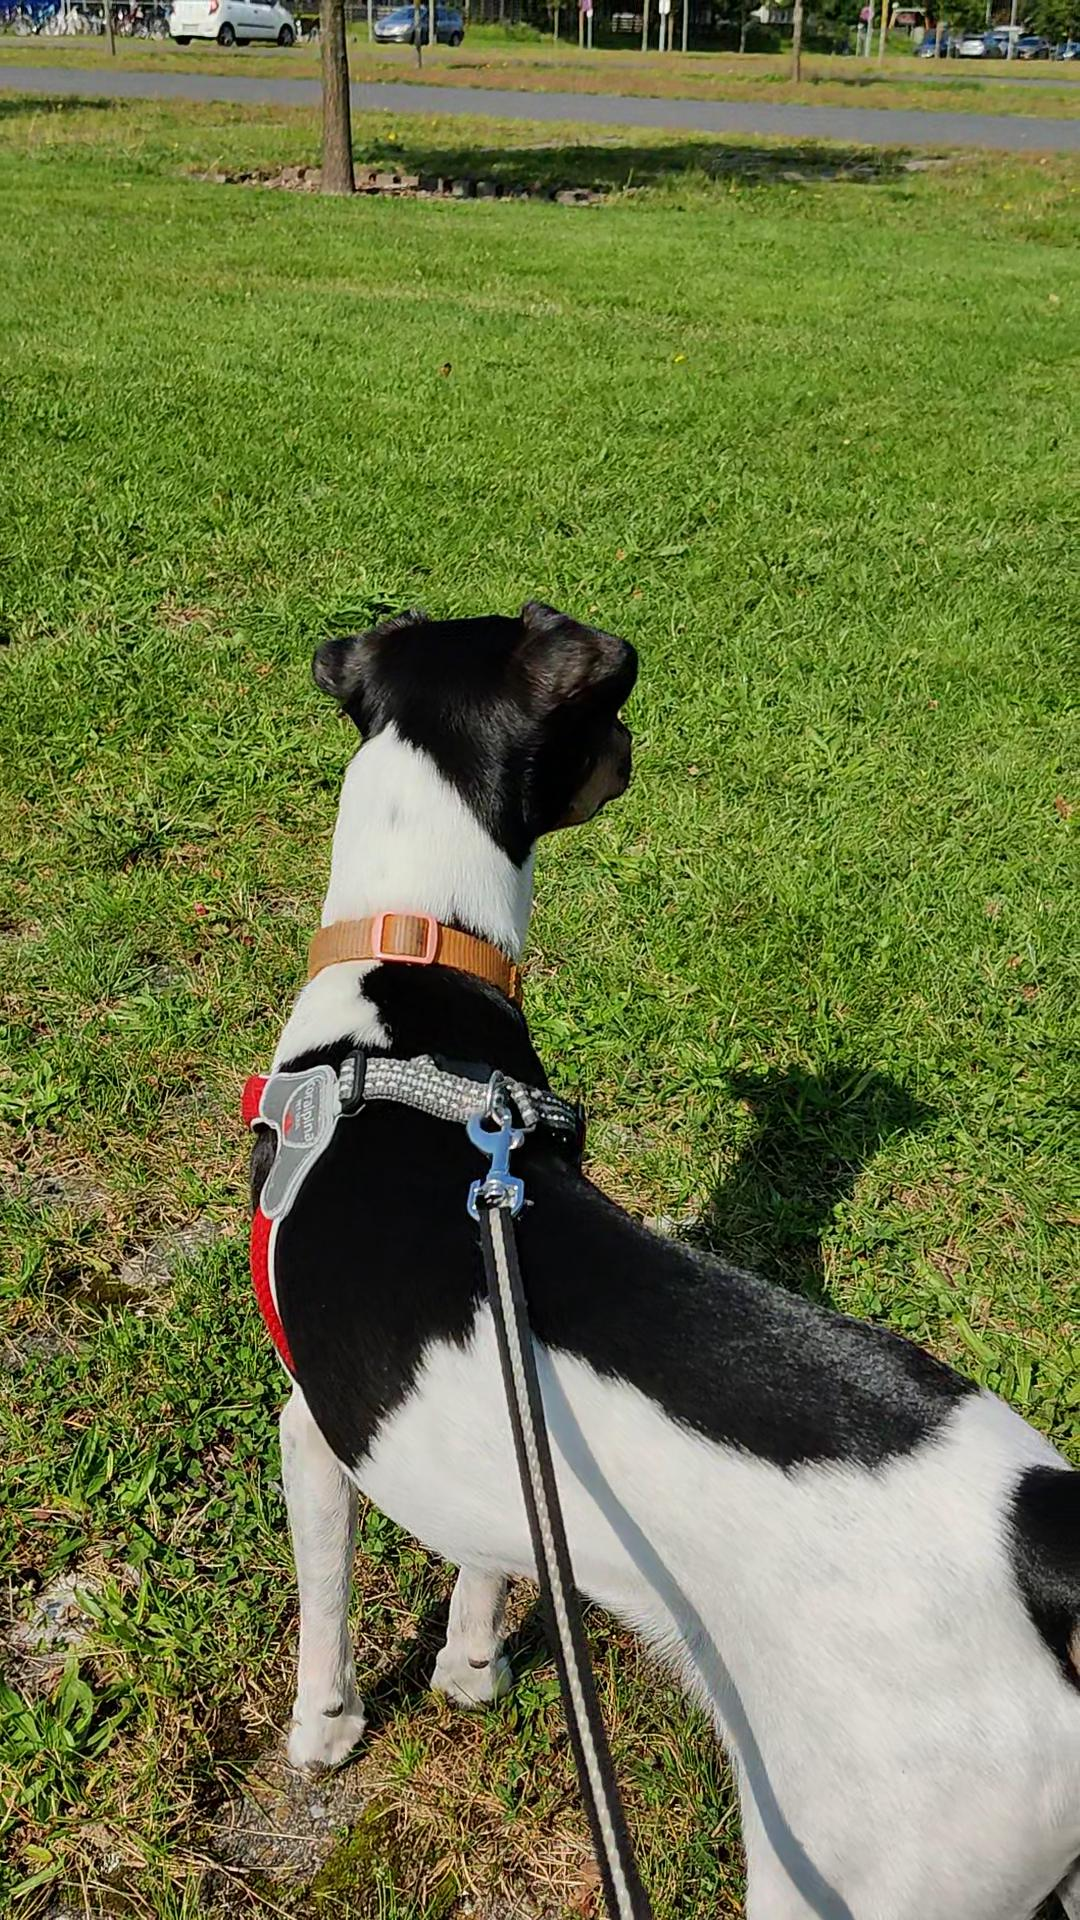Dog: (237, 591, 1079, 1919)
